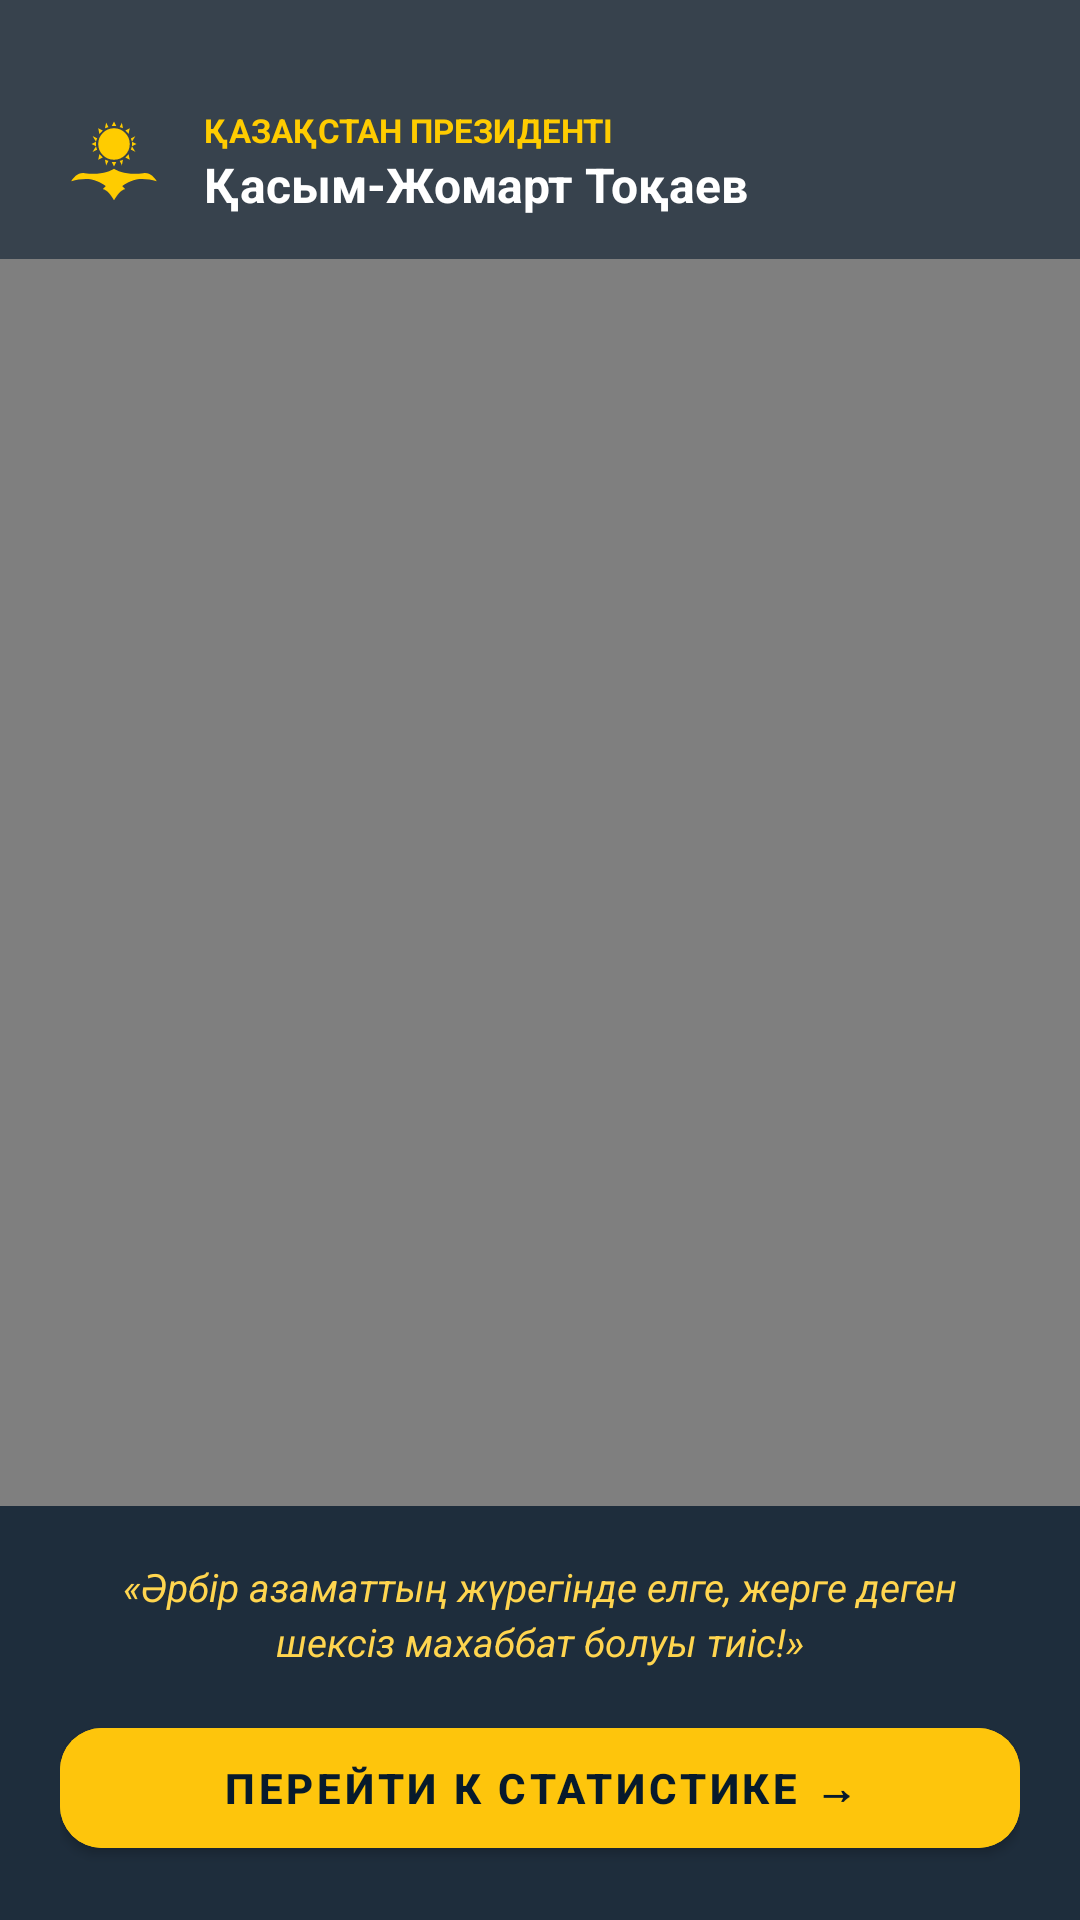

Named icons in this screenshot (1080×1920) and their centers, [x,y]:
kazakh eagle sun: [114,161]
